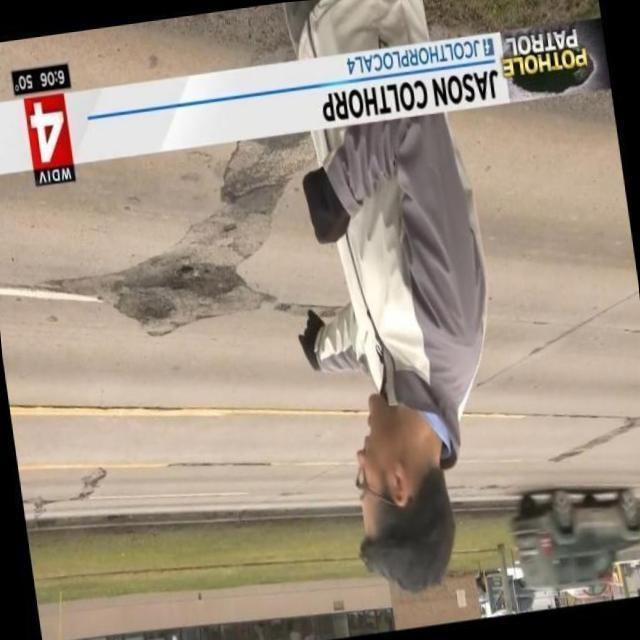pothole: (52, 130, 334, 378)
